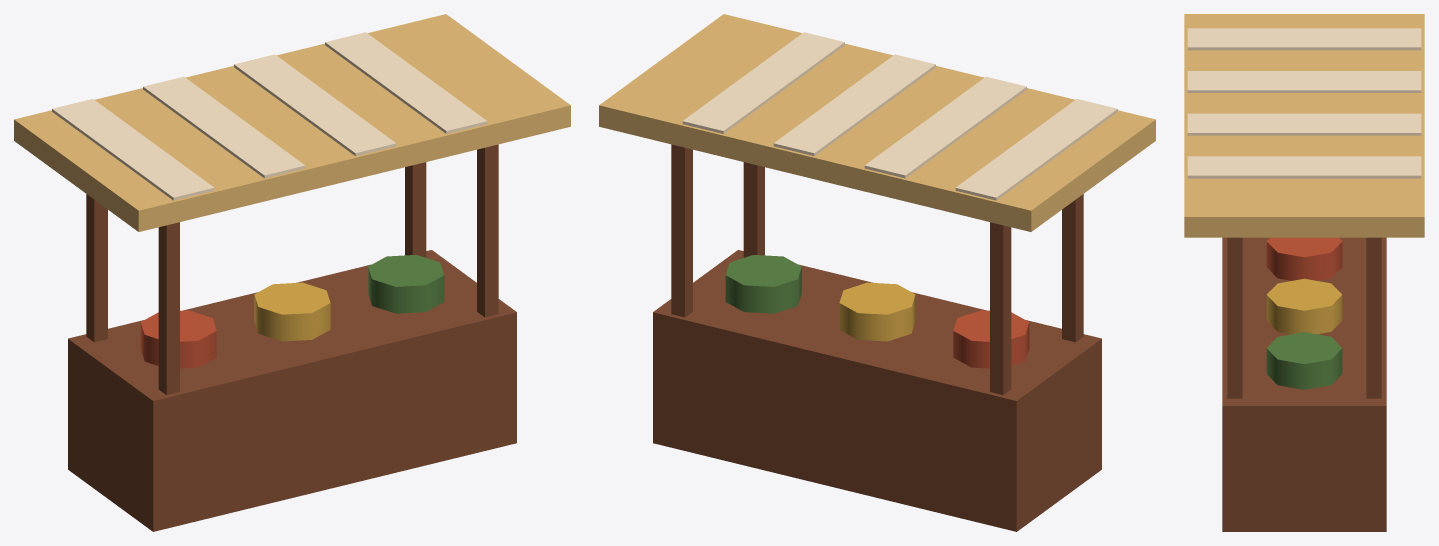
File: market_stall.glb
3 views of the same model, side by side, from view 1: azimuth 30°, elevation 25°; view 2: azimuth 150°, elevation 25°; view 3: azimuth 270°, elevation 25° (orthographic). The views are drawn at different scales.
Parts seen in each view (by area): view 1: _MeshInstance3D_284, _MeshInstance3D_291, _MeshInstance3D_293, _MeshInstance3D_294, _MeshInstance3D_292, _MeshInstance3D_295, _MeshInstance3D_297, _MeshInstance3D_298, _MeshInstance3D_290, _MeshInstance3D_288, _MeshInstance3D_287, _MeshInstance3D_296 (+1 smaller); view 2: _MeshInstance3D_284, _MeshInstance3D_291, _MeshInstance3D_293, _MeshInstance3D_294, _MeshInstance3D_292, _MeshInstance3D_295, _MeshInstance3D_297, _MeshInstance3D_298, _MeshInstance3D_289, _MeshInstance3D_287, _MeshInstance3D_288, _MeshInstance3D_296 (+1 smaller); view 3: _MeshInstance3D_291, _MeshInstance3D_284, _MeshInstance3D_295, _MeshInstance3D_292, _MeshInstance3D_294, _MeshInstance3D_293, _MeshInstance3D_298, _MeshInstance3D_297, _MeshInstance3D_296, _MeshInstance3D_289, _MeshInstance3D_290.
Boxes of the visible parts, <box> form: _MeshInstance3D_284: <box>68,250,516,531</box>; _MeshInstance3D_291: <box>14,14,570,231</box>; _MeshInstance3D_293: <box>143,76,305,178</box>; _MeshInstance3D_294: <box>234,54,396,156</box>; _MeshInstance3D_292: <box>52,99,214,200</box>; _MeshInstance3D_295: <box>325,32,487,133</box>; _MeshInstance3D_297: <box>254,282,330,341</box>; _MeshInstance3D_298: <box>368,255,444,313</box>; _MeshInstance3D_290: <box>477,144,498,317</box>; _MeshInstance3D_288: <box>158,222,179,395</box>; _MeshInstance3D_287: <box>86,194,107,342</box>; _MeshInstance3D_296: <box>140,310,216,368</box>; _MeshInstance3D_284: <box>653,250,1101,531</box>; _MeshInstance3D_291: <box>599,14,1155,231</box>; _MeshInstance3D_293: <box>864,76,1026,178</box>; _MeshInstance3D_294: <box>773,54,935,156</box>; _MeshInstance3D_292: <box>955,99,1117,200</box>; _MeshInstance3D_295: <box>682,32,844,133</box>; _MeshInstance3D_297: <box>839,282,915,341</box>; _MeshInstance3D_298: <box>725,255,801,313</box>; _MeshInstance3D_289: <box>671,144,692,317</box>; _MeshInstance3D_287: <box>990,222,1011,395</box>; _MeshInstance3D_288: <box>1062,194,1083,342</box>; _MeshInstance3D_296: <box>953,310,1029,368</box>; _MeshInstance3D_291: <box>1184,14,1424,237</box>; _MeshInstance3D_284: <box>1222,237,1386,531</box>; _MeshInstance3D_295: <box>1187,156,1421,178</box>; _MeshInstance3D_292: <box>1187,28,1421,50</box>; _MeshInstance3D_294: <box>1187,113,1421,135</box>; _MeshInstance3D_293: <box>1187,71,1421,92</box>; _MeshInstance3D_298: <box>1266,332,1342,389</box>; _MeshInstance3D_297: <box>1266,278,1342,334</box>; _MeshInstance3D_296: <box>1266,237,1342,280</box>; _MeshInstance3D_289: <box>1366,237,1381,398</box>; _MeshInstance3D_290: <box>1227,237,1242,398</box>.
Bounding box in the file's own units: 3.8 × 2.92 × 1.9.
